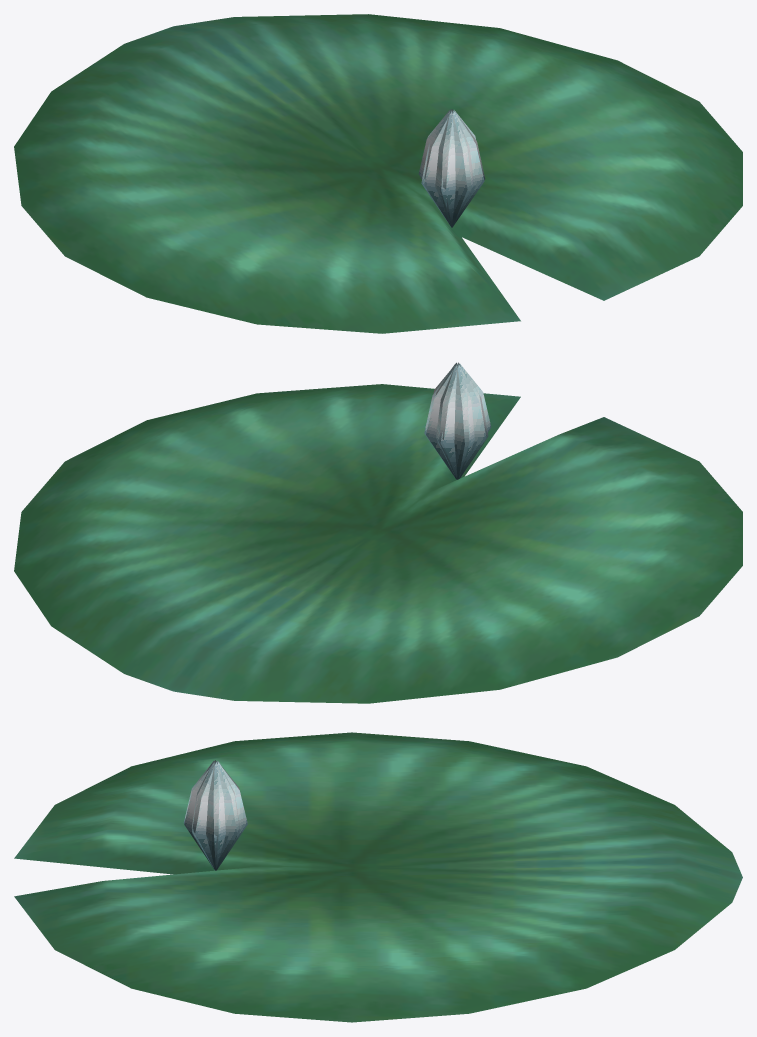
File: LILYPAD_IDLECLOSED.fbx
3 views of the same model, one above another, from view 1: azimuth 30°, elevation 25°; view 2: azimuth 150°, elevation 25°; view 3: azimuth 270°, elevation 25° (orthographic). The views are drawn at different scales.
Parts seen in each view (by area): view 1: LILYPAD_IDLECLOSED; view 2: LILYPAD_IDLECLOSED; view 3: LILYPAD_IDLECLOSED.
Part boxes in pixels (box(x1,y1,x2,y2)): LILYPAD_IDLECLOSED: box(14, 14, 742, 333); LILYPAD_IDLECLOSED: box(14, 362, 742, 703); LILYPAD_IDLECLOSED: box(14, 732, 742, 1022).
Bounding box in the file's own units: 19427 × 3605 × 20632.
Materials: 3 (3 with a texture image).
